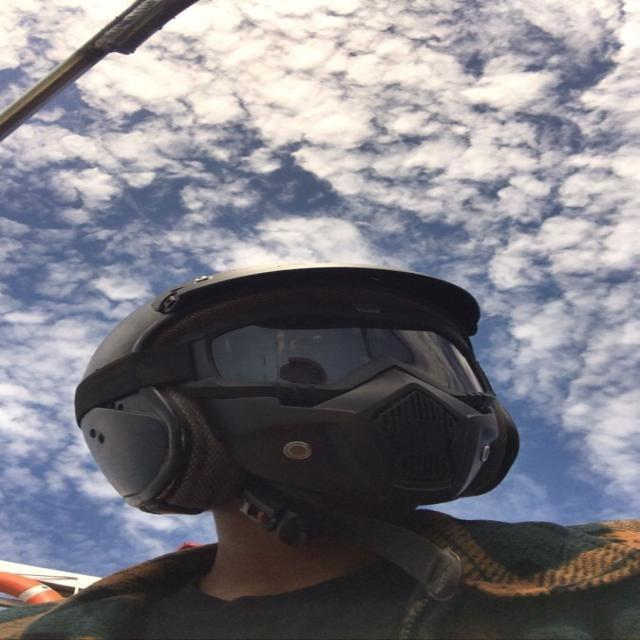Helmet: (71, 260, 523, 543)
